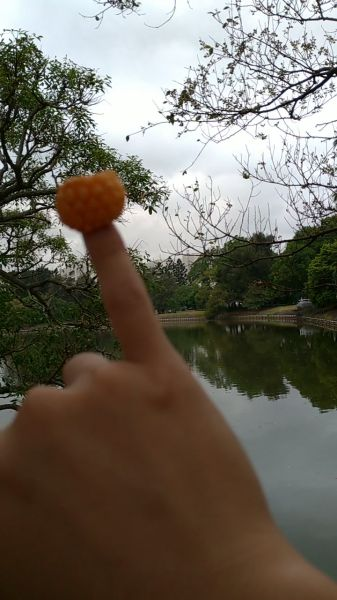eggs: (55, 172, 125, 231)
